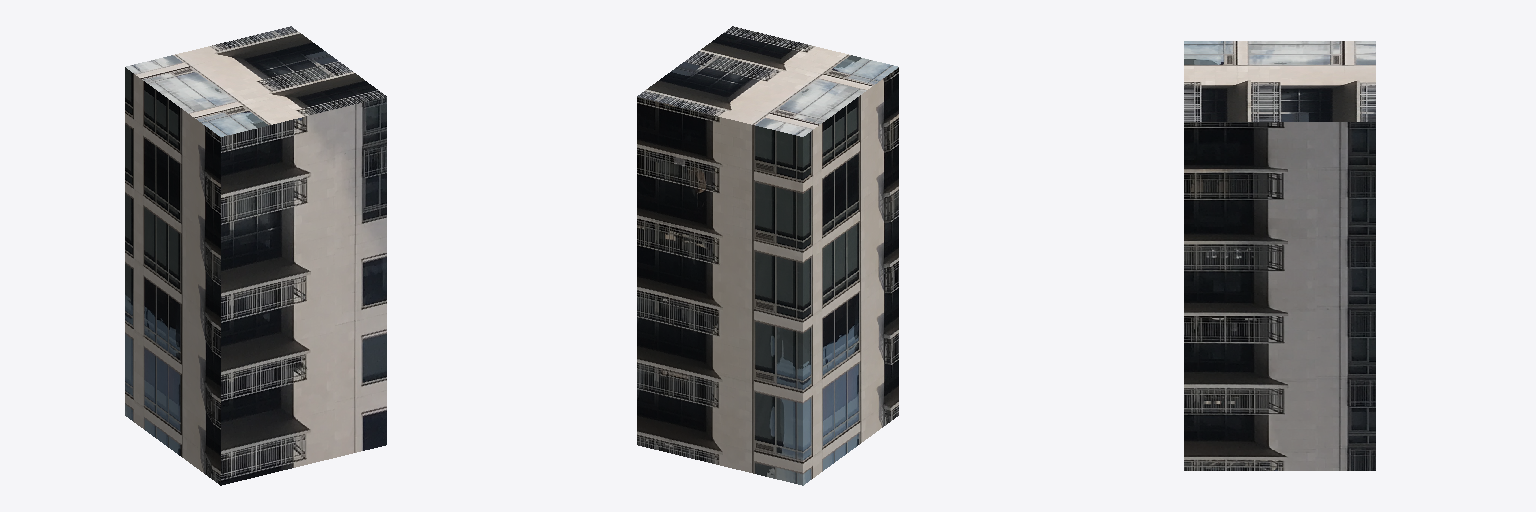
3 views of the same model, side by side, from view 1: azimuth 30°, elevation 25°; view 2: azimuth 150°, elevation 25°; view 3: azimuth 270°, elevation 25° (orthographic).
Visible parts, largest first — view 1: Cube; view 2: Cube; view 3: Cube.
Boxes of the visible parts, x1=… form: Cube: x1=125, y1=26, x2=386, y2=485; Cube: x1=637, y1=26, x2=898, y2=485; Cube: x1=1184, y1=41, x2=1375, y2=470.
Bounding box in the file's own units: 2 × 4 × 2.
Materials: 1 (1 with a texture image).